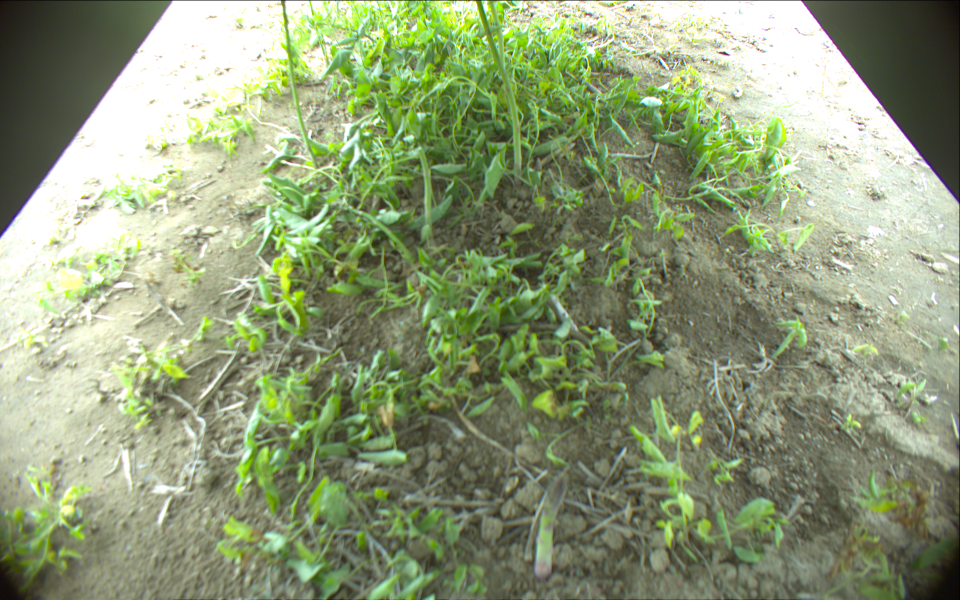aspa: (476, 1, 524, 183), (277, 1, 321, 167), (337, 202, 418, 264), (533, 474, 569, 576), (414, 144, 431, 238), (487, 1, 505, 69), (307, 1, 317, 19)
